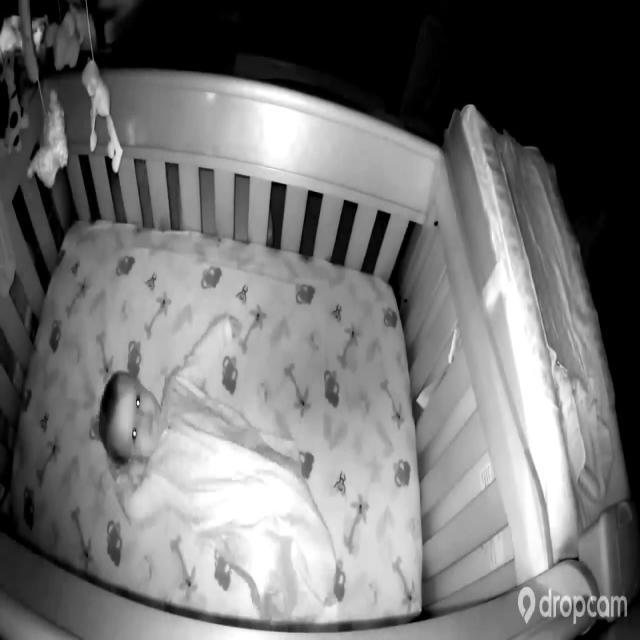baby: (97, 314, 338, 601)
